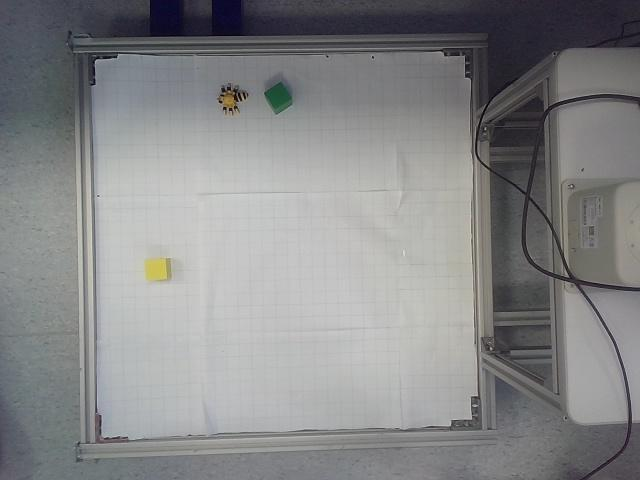frelon: (217, 83, 249, 116)
